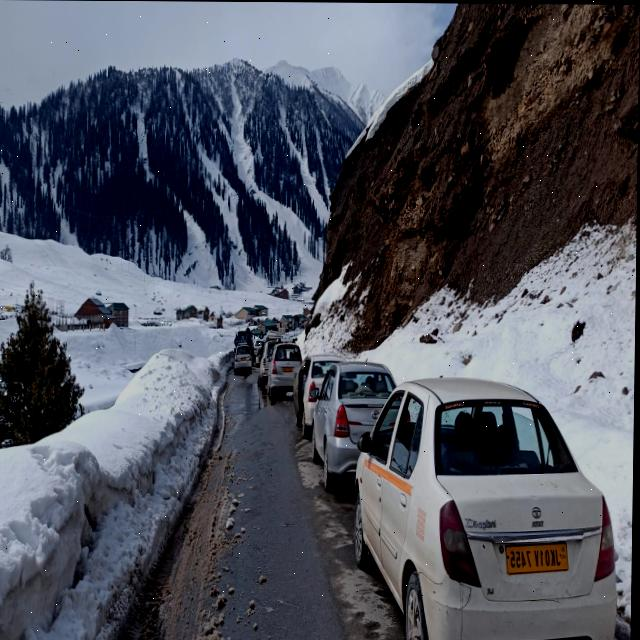plate: (503, 534, 576, 576), (283, 365, 294, 371), (241, 357, 247, 360)
